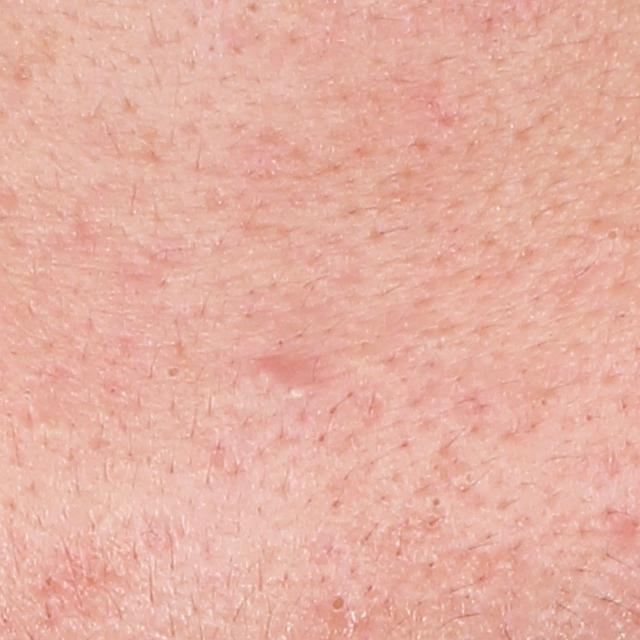comedo: (243, 356, 322, 405), (426, 493, 447, 512), (603, 227, 623, 243)
